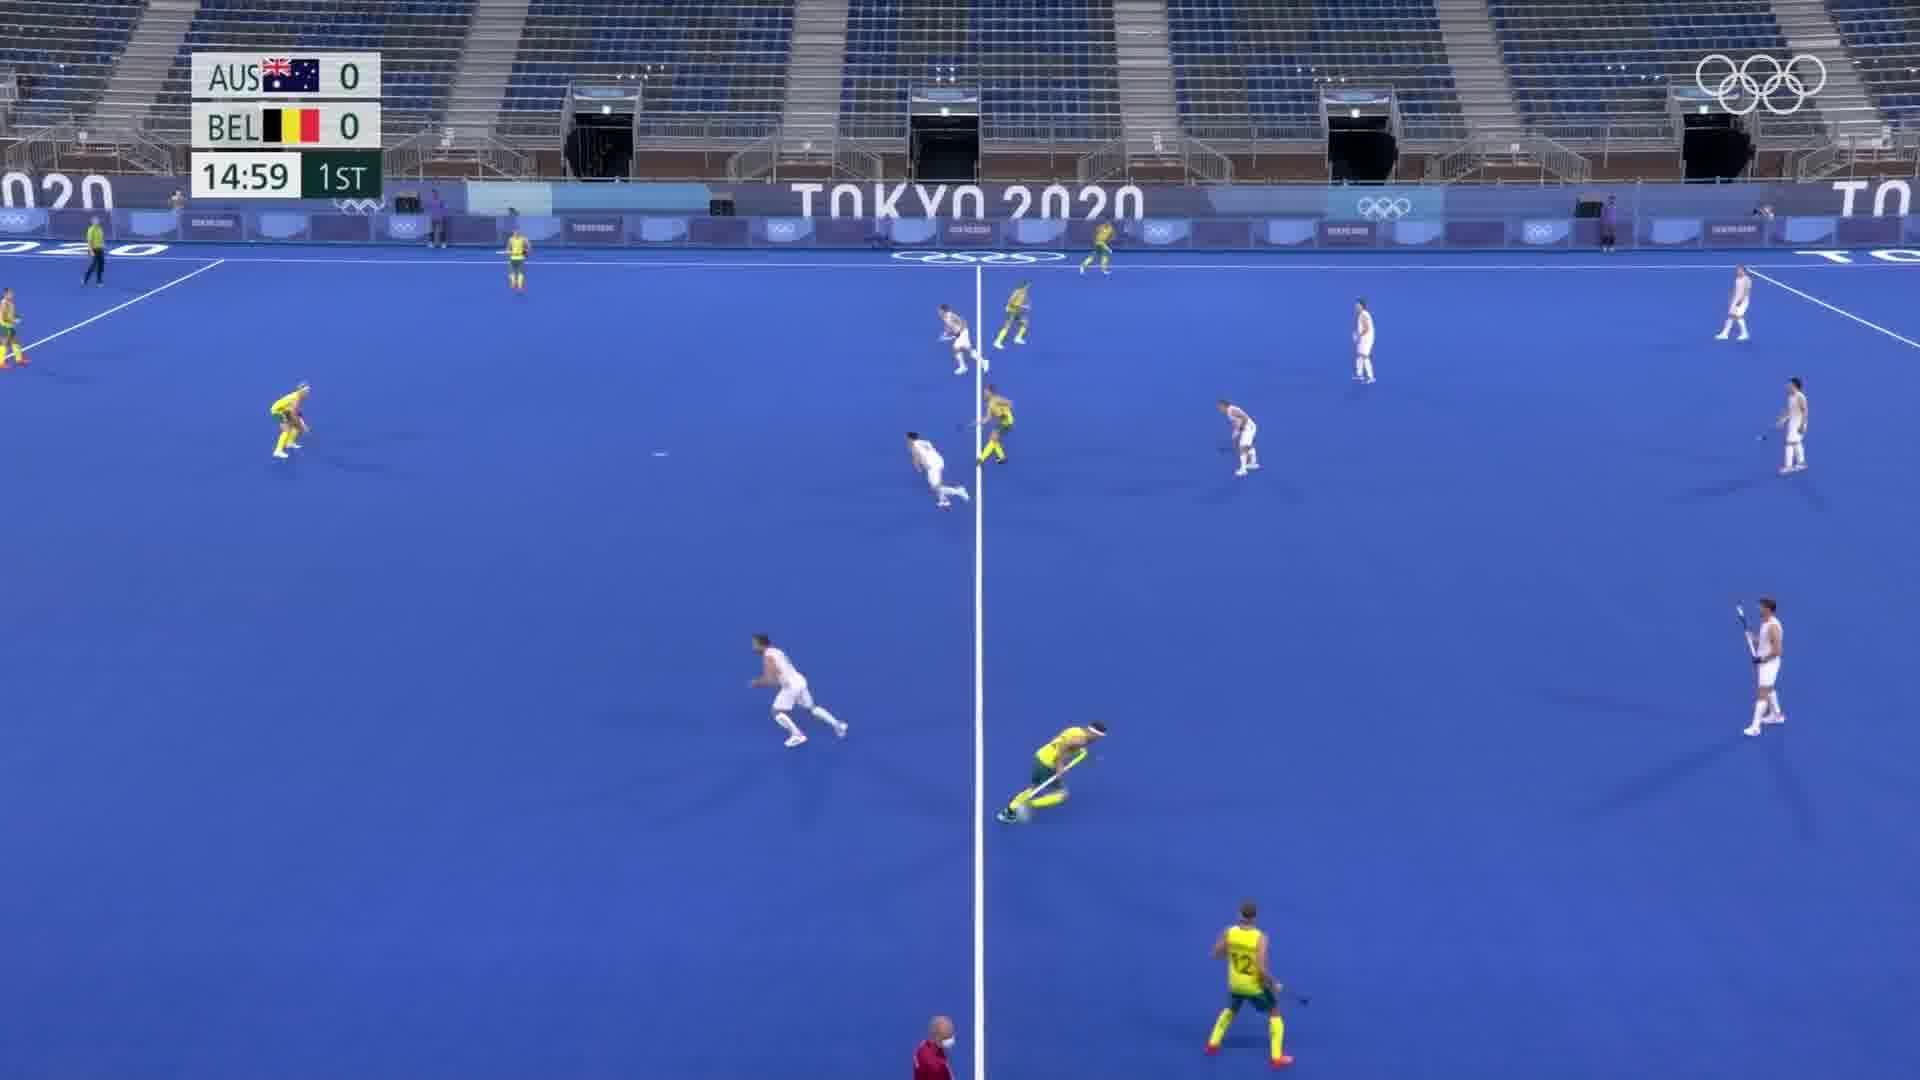ball: (649, 448, 671, 460)
